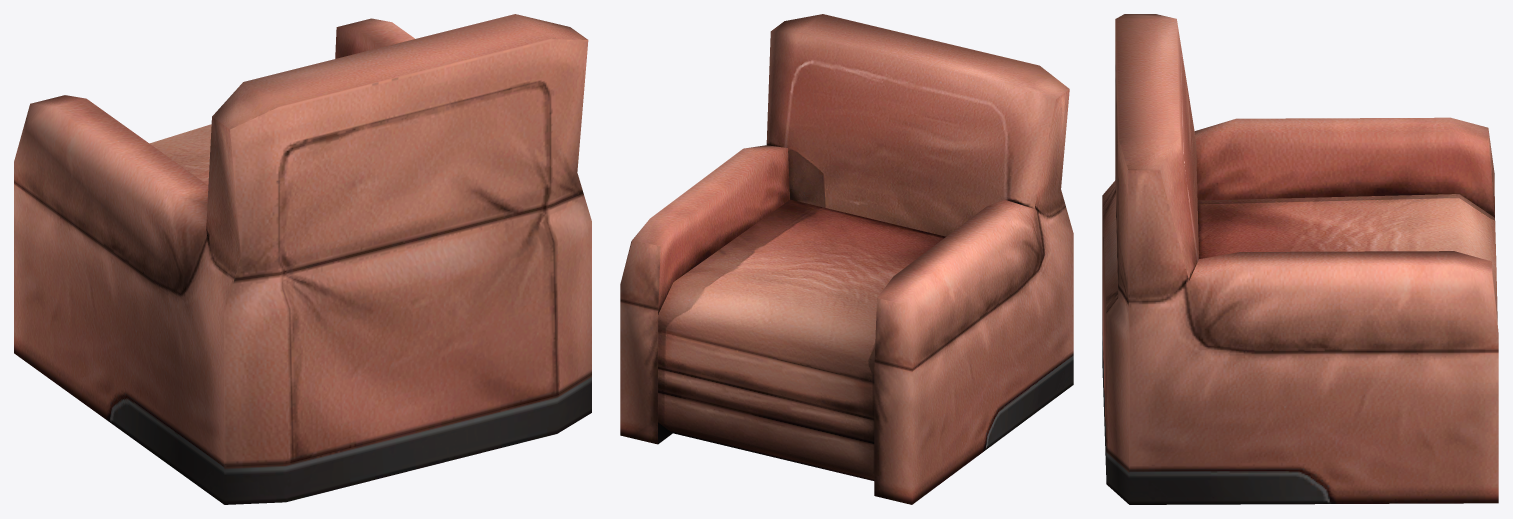
3 views of the same model, side by side, from view 1: azimuth 30°, elevation 25°; view 2: azimuth 150°, elevation 25°; view 3: azimuth 270°, elevation 25° (orthographic). The views are drawn at different scales.
Parts seen in each view (by area): view 1: Box07; view 2: Box07; view 3: Box07.
Boxes of the visible parts, <box> form: Box07: <box>14,14,591,504</box>; Box07: <box>620,14,1073,504</box>; Box07: <box>1102,14,1498,504</box>.
Bounding box in the file's own units: 46.89 × 46.89 × 48.6.
Materials: 1 (1 with a texture image).
